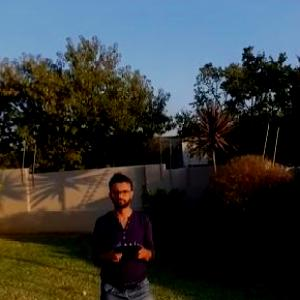follow: (88, 173, 158, 299)
